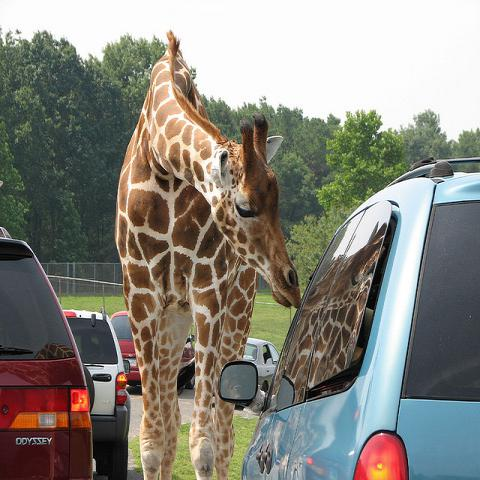car: (219, 156, 479, 479), (1, 234, 99, 473), (66, 310, 131, 466), (110, 310, 196, 390), (242, 338, 280, 391)
